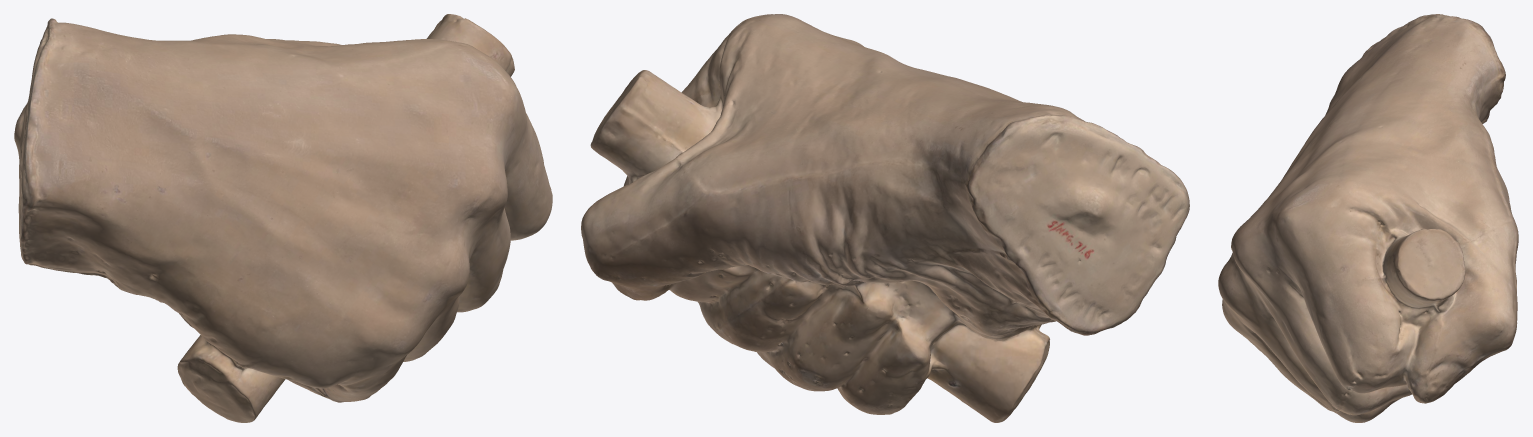
The model's file is npg_71_6_right-hires_unwrapped-150k-2048-medium.glb.
The picture shows the model from 3 angles, left to right: view 1: azimuth 30°, elevation 25°; view 2: azimuth 150°, elevation 25°; view 3: azimuth 270°, elevation 25°; orthographic projection. The views are drawn at different scales.
Bounding box in the file's own units: 169 × 115 × 103.
1 material, 1 textured.
